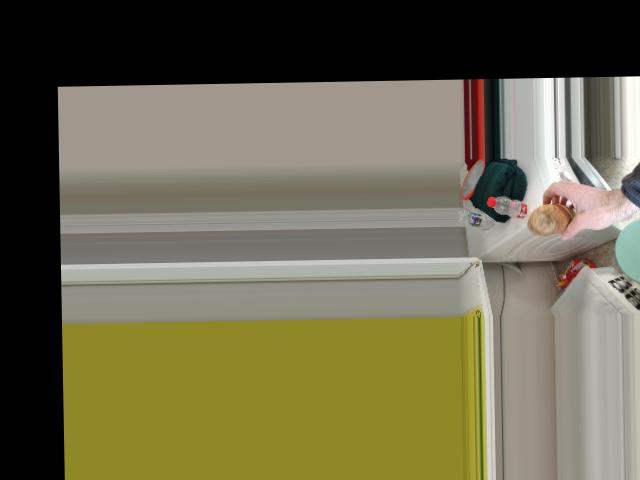sweet_potato: (524, 200, 579, 241)
